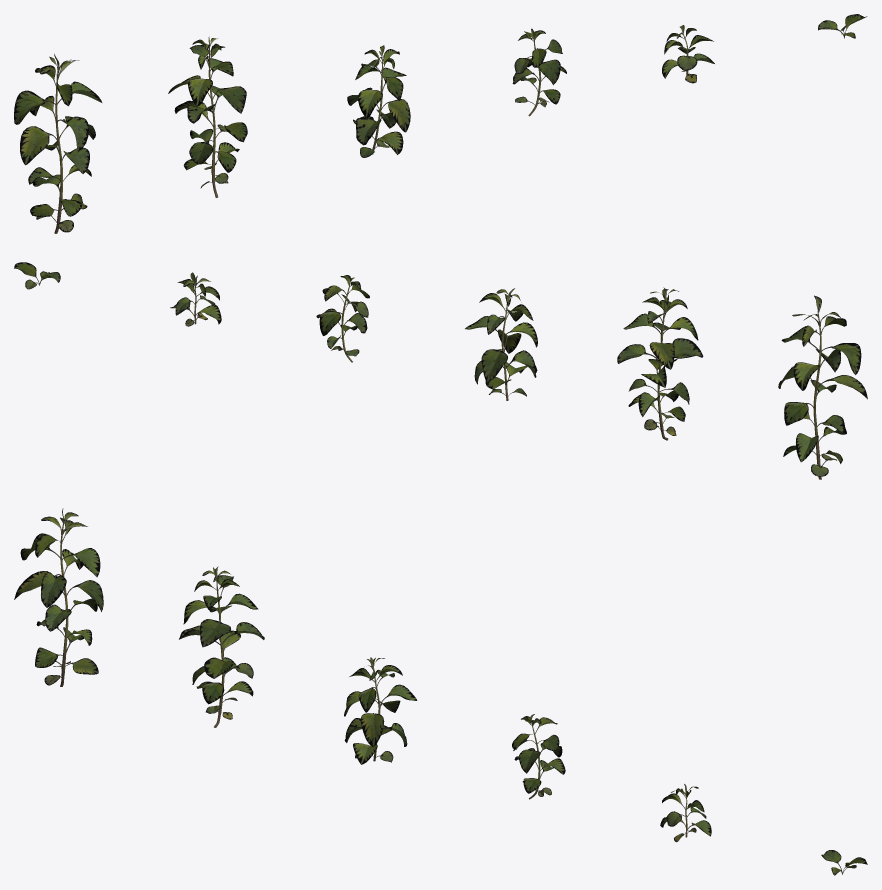
File: nettle_plant.gltf
3 renders of one model, top to bottom at view 1: azimuth 30°, elevation 25°; view 2: azimuth 150°, elevation 25°; view 3: azimuth 330°, elevation 25°, orthographic.
Parts seen in each view (by area): view 1: nettle_plant_tall_a_LOD0, nettle_plant_tall_b_LOD0, nettle_plant_medium_a_LOD0, nettle_plant_medium_b_LOD0, nettle_plant_small_a_LOD0; view 2: nettle_plant_tall_a_LOD0, nettle_plant_tall_b_LOD0, nettle_plant_medium_a_LOD0, nettle_plant_medium_b_LOD0, nettle_plant_small_a_LOD0, nettle_plant_small_b_LOD0; view 3: nettle_plant_tall_a_LOD0, nettle_plant_tall_b_LOD0, nettle_plant_medium_a_LOD0, nettle_plant_medium_b_LOD0, nettle_plant_small_a_LOD0.
Boxes of the visible parts, x1,y1,x2,y2 form: nettle_plant_tall_a_LOD0: (14, 54, 102, 233); nettle_plant_tall_b_LOD0: (168, 36, 247, 197); nettle_plant_medium_a_LOD0: (347, 45, 410, 157); nettle_plant_medium_b_LOD0: (512, 28, 566, 116); nettle_plant_small_a_LOD0: (662, 25, 714, 83); nettle_plant_tall_a_LOD0: (778, 295, 867, 479); nettle_plant_tall_b_LOD0: (617, 287, 703, 440); nettle_plant_medium_a_LOD0: (465, 288, 537, 400); nettle_plant_medium_b_LOD0: (316, 275, 369, 362); nettle_plant_small_a_LOD0: (170, 272, 221, 326); nettle_plant_small_b_LOD0: (14, 262, 60, 289); nettle_plant_tall_a_LOD0: (14, 508, 103, 686); nettle_plant_tall_b_LOD0: (179, 566, 264, 727); nettle_plant_medium_a_LOD0: (344, 657, 417, 764); nettle_plant_medium_b_LOD0: (512, 714, 565, 799); nettle_plant_small_a_LOD0: (660, 784, 711, 842).
Size of the model in its own units: 1.08 by 0.2184 by 0.0947.
Materials: 1 (1 with a texture image).
